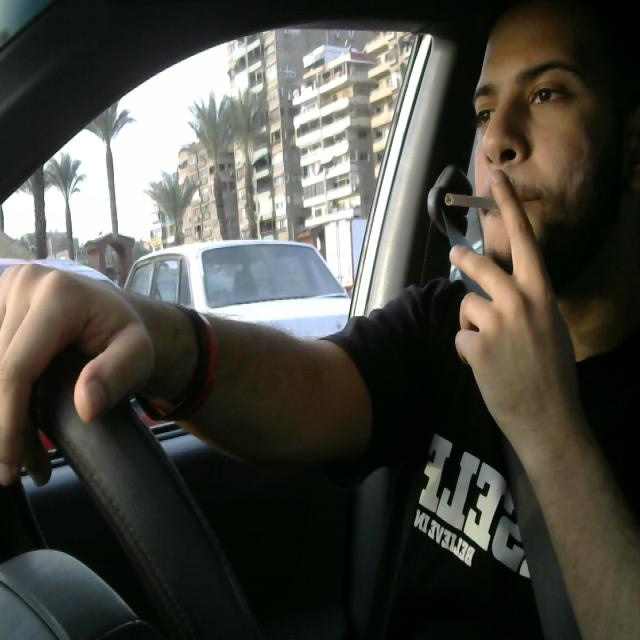smoking: (442, 180, 504, 218)
